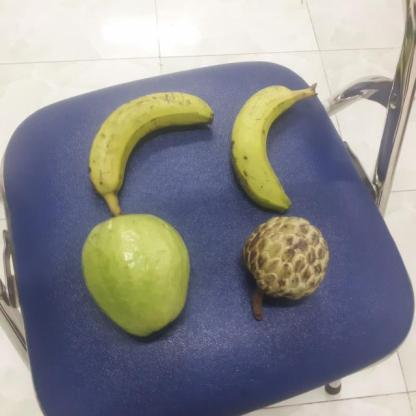annona: (243, 214, 332, 298)
banana: (86, 90, 214, 206), (227, 81, 303, 217)
guava: (78, 213, 196, 338)
